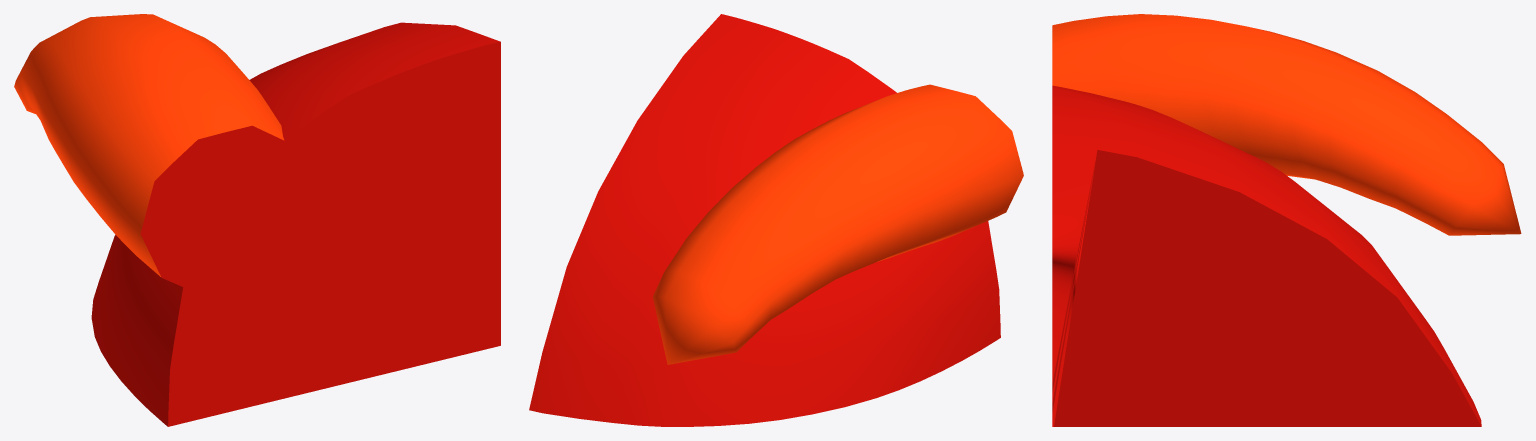
The model's file is shot_punch_b155.glb.
The picture shows the model from 3 angles, left to right: view 1: azimuth 30°, elevation 25°; view 2: azimuth 150°, elevation 25°; view 3: azimuth 270°, elevation 25°; orthographic projection. The views are drawn at different scales.
Visible parts, largest first — view 1: pu_mitt_b155, pu_thumb_b155; view 2: pu_mitt_b155, pu_thumb_b155; view 3: pu_mitt_b155, pu_thumb_b155.
Part boxes in pixels (x1,y1,x2,y2): pu_mitt_b155: (91, 22, 500, 426); pu_thumb_b155: (14, 14, 310, 293); pu_mitt_b155: (529, 14, 1000, 426); pu_thumb_b155: (652, 84, 1023, 364); pu_mitt_b155: (1052, 85, 1481, 426); pu_thumb_b155: (1052, 14, 1521, 235).
Bounding box in the file's own units: 6.46 × 5.16 × 7.69.
